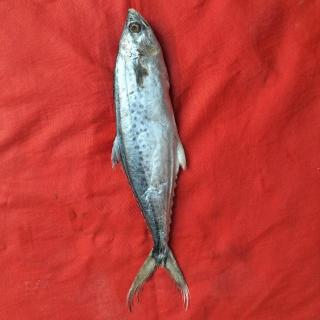Ikan: (106, 6, 211, 310)
